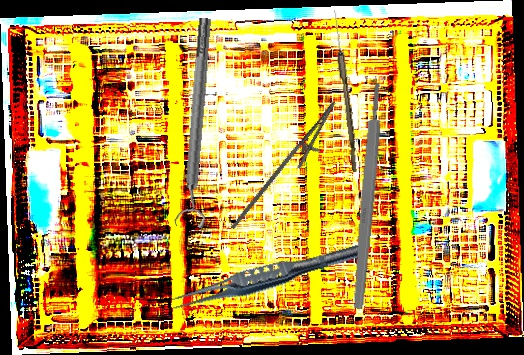Fixation Ring: (171, 16, 224, 229)
Needle Holder: (230, 90, 347, 247)
Scalpel Handle: (351, 82, 385, 310)
Surgical Spoon: (330, 9, 361, 173)
Tissue Forceps: (163, 234, 369, 320)
